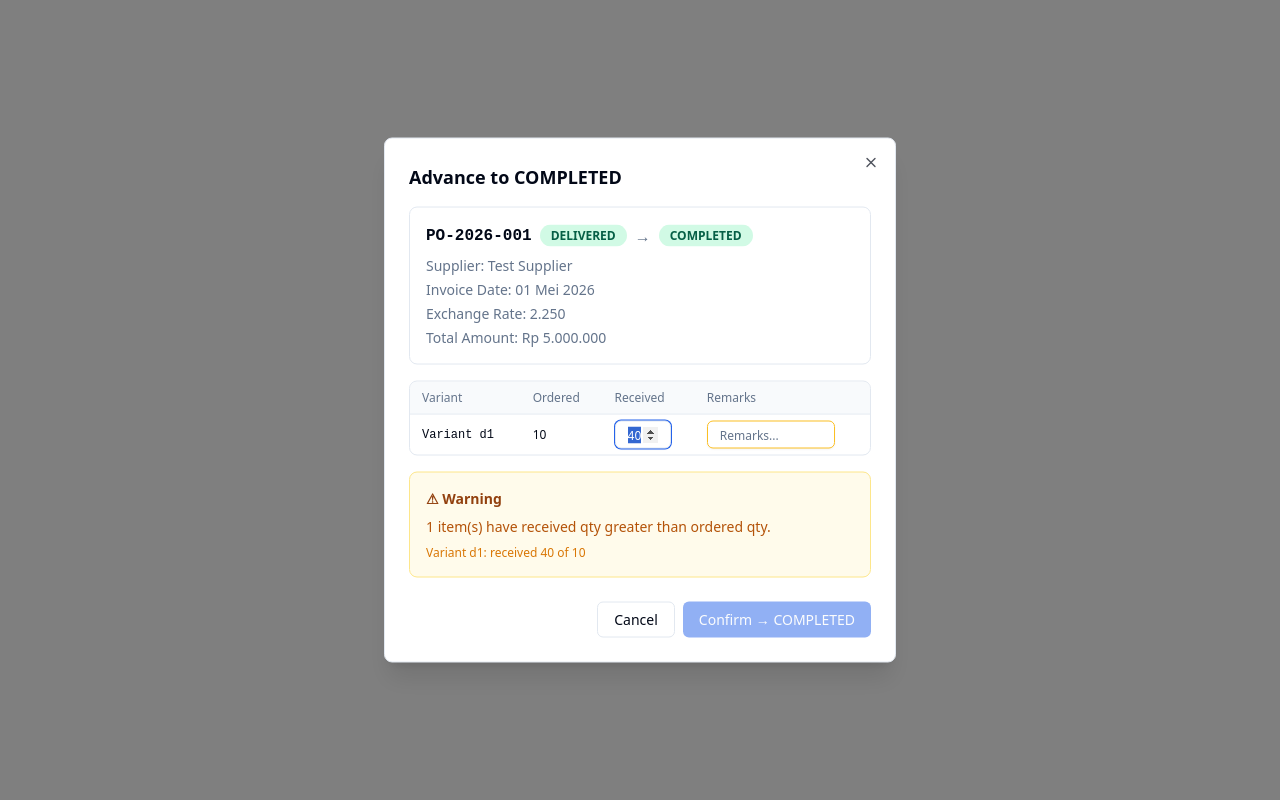
Test: COMPLETED transition — editable received qty › shows the confirm-anyway reassurance for an over-receipt row once its remarks is filled
Type "Extra units from supplier" into the field with placeholder "Remarks..." at (771, 434), box [707,420,835,448]
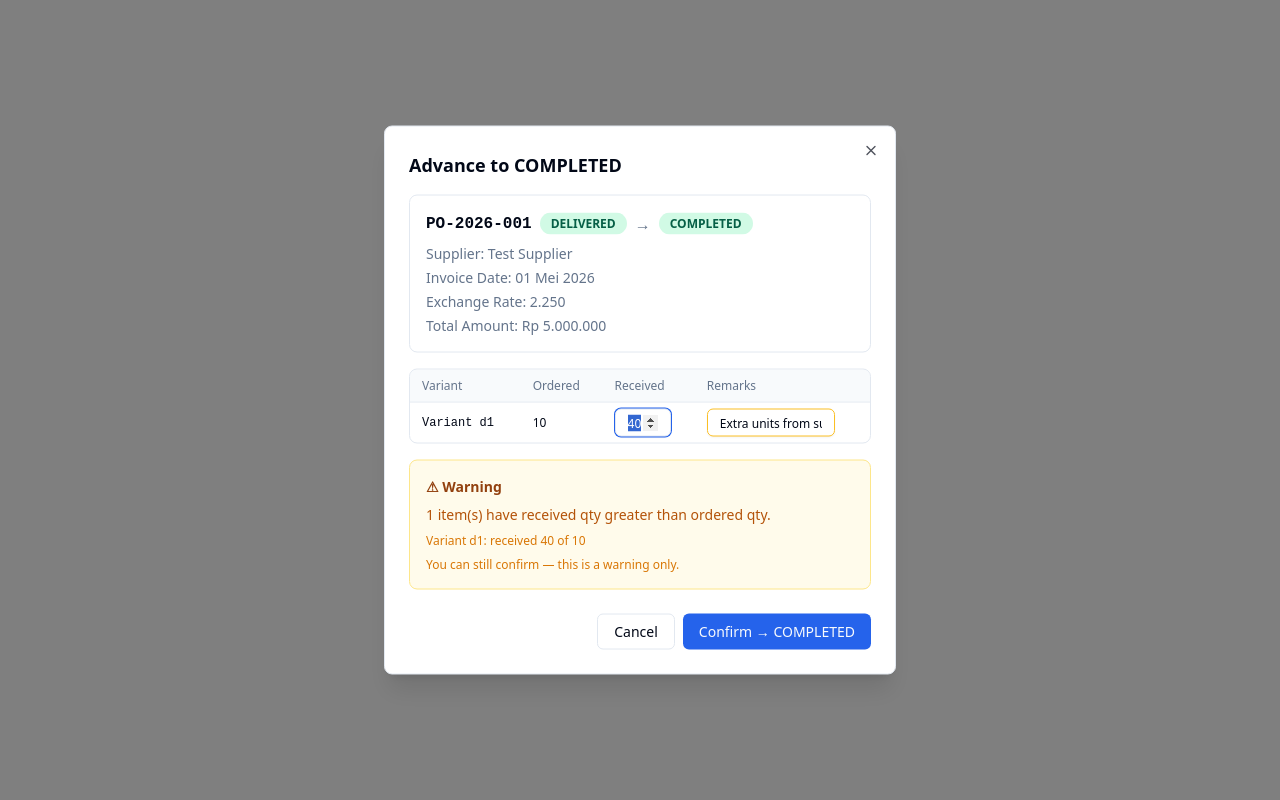
Result: the text "You can still confirm — this is a warning only." is shown at [426,556,679,572]
Result: the button "Confirm → COMPLETED" is enabled at [683,614,871,650]
